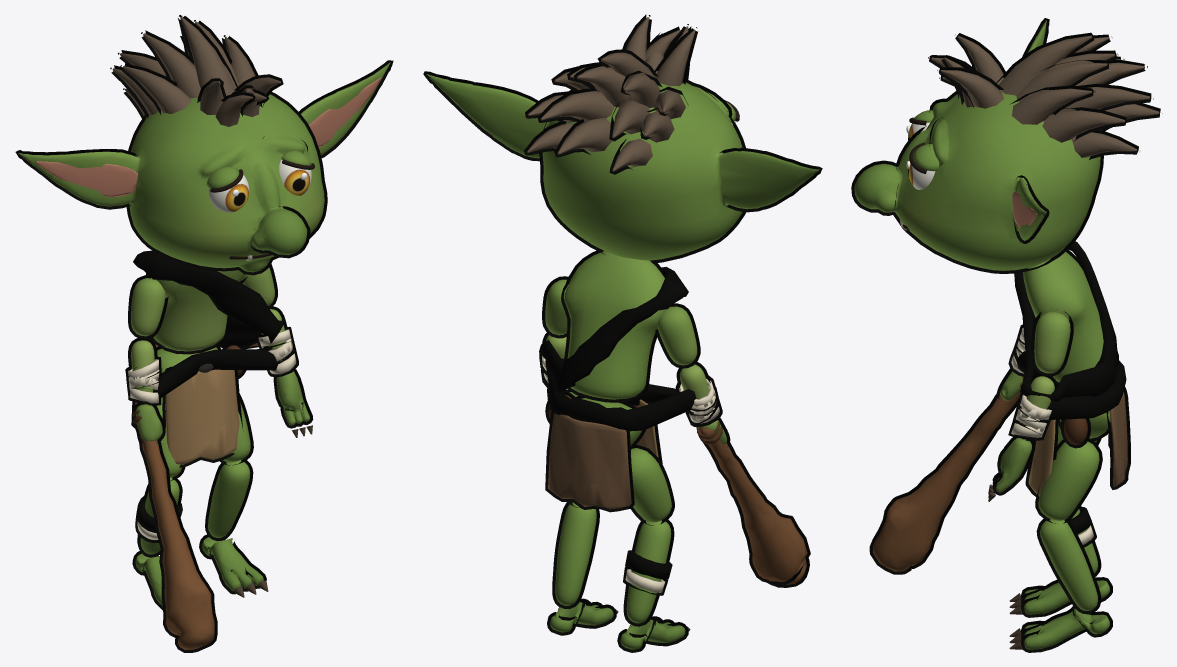
File: GoblinTier1.fbx
3 views of the same model, side by side, from view 1: azimuth 30°, elevation 25°; view 2: azimuth 150°, elevation 25°; view 3: azimuth 270°, elevation 25° (orthographic). The views are drawn at different scales.
Parts seen in each view (by area): view 1: Head, LowerTorso, UpperTorso, RightHand, LeftLowerLeg, LeftFoot, RightLowerArm, RightUpperArm, LeftHand, RightLowerLeg, LeftLowerArm, RightFoot (+2 smaller); view 2: Head, UpperTorso, LowerTorso, RightHand, RightLowerLeg, LeftLowerLeg, RightUpperLeg, RightUpperArm, RightLowerArm, RightFoot, LeftFoot, LeftUpperArm; view 3: Head, UpperTorso, RightHand, LowerTorso, LeftUpperLeg, LeftLowerLeg, LeftFoot, LeftUpperArm, LeftLowerArm, RightFoot, LeftHand, RightLowerLeg.
Boxes of the visible parts, x1,y1,x2,y2 form: Head: (15, 15, 393, 275); LowerTorso: (131, 337, 279, 467); UpperTorso: (133, 250, 285, 354); RightHand: (132, 403, 217, 652); LeftLowerLeg: (205, 460, 253, 541); LeftFoot: (199, 534, 268, 597); RightLowerArm: (125, 337, 161, 405); RightUpperArm: (128, 275, 168, 339); LeftHand: (273, 369, 313, 437); RightLowerLeg: (135, 477, 182, 557); LeftLowerArm: (255, 306, 298, 377); RightFoot: (132, 551, 162, 610); Head: (423, 14, 822, 263); UpperTorso: (539, 249, 688, 402); LowerTorso: (545, 360, 696, 512); RightHand: (696, 418, 810, 587); RightLowerLeg: (623, 519, 674, 626); LeftLowerLeg: (552, 502, 599, 609); RightUpperLeg: (630, 444, 674, 525); RightUpperArm: (655, 303, 700, 368); RightLowerArm: (675, 362, 722, 426); RightFoot: (617, 616, 690, 652); LeftFoot: (547, 598, 618, 635); LeftUpperArm: (542, 276, 568, 338); Head: (851, 18, 1162, 273); UpperTorso: (1014, 241, 1118, 401); RightHand: (869, 368, 1023, 574); LowerTorso: (1016, 351, 1130, 496); LeftUpperLeg: (1035, 438, 1102, 523); LeftLowerLeg: (1036, 518, 1101, 614); LeftFoot: (1009, 606, 1112, 652); LeftUpperArm: (1031, 308, 1073, 376); LeftLowerArm: (1008, 373, 1057, 440); RightFoot: (1009, 577, 1112, 617); LeftHand: (988, 435, 1035, 501); RightLowerLeg: (1070, 506, 1101, 576).
Bounding box in the file's own units: 2.56 × 3.64 × 1.73.
1 material, 1 textured.
